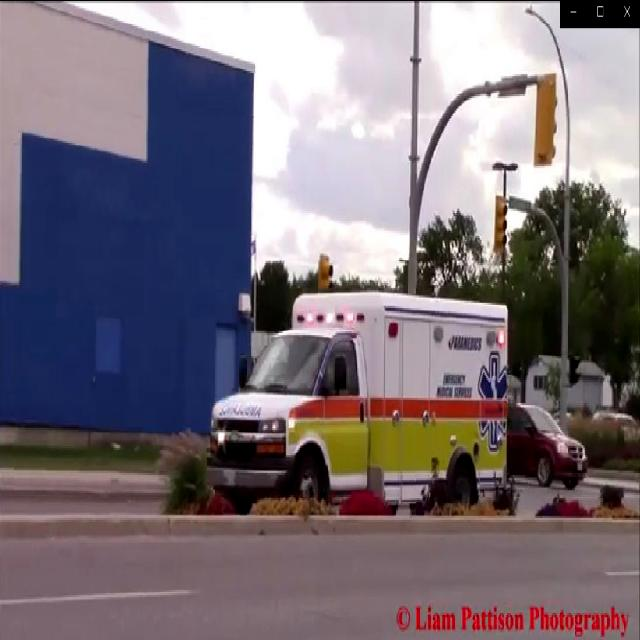emergency: (205, 280, 511, 523)
